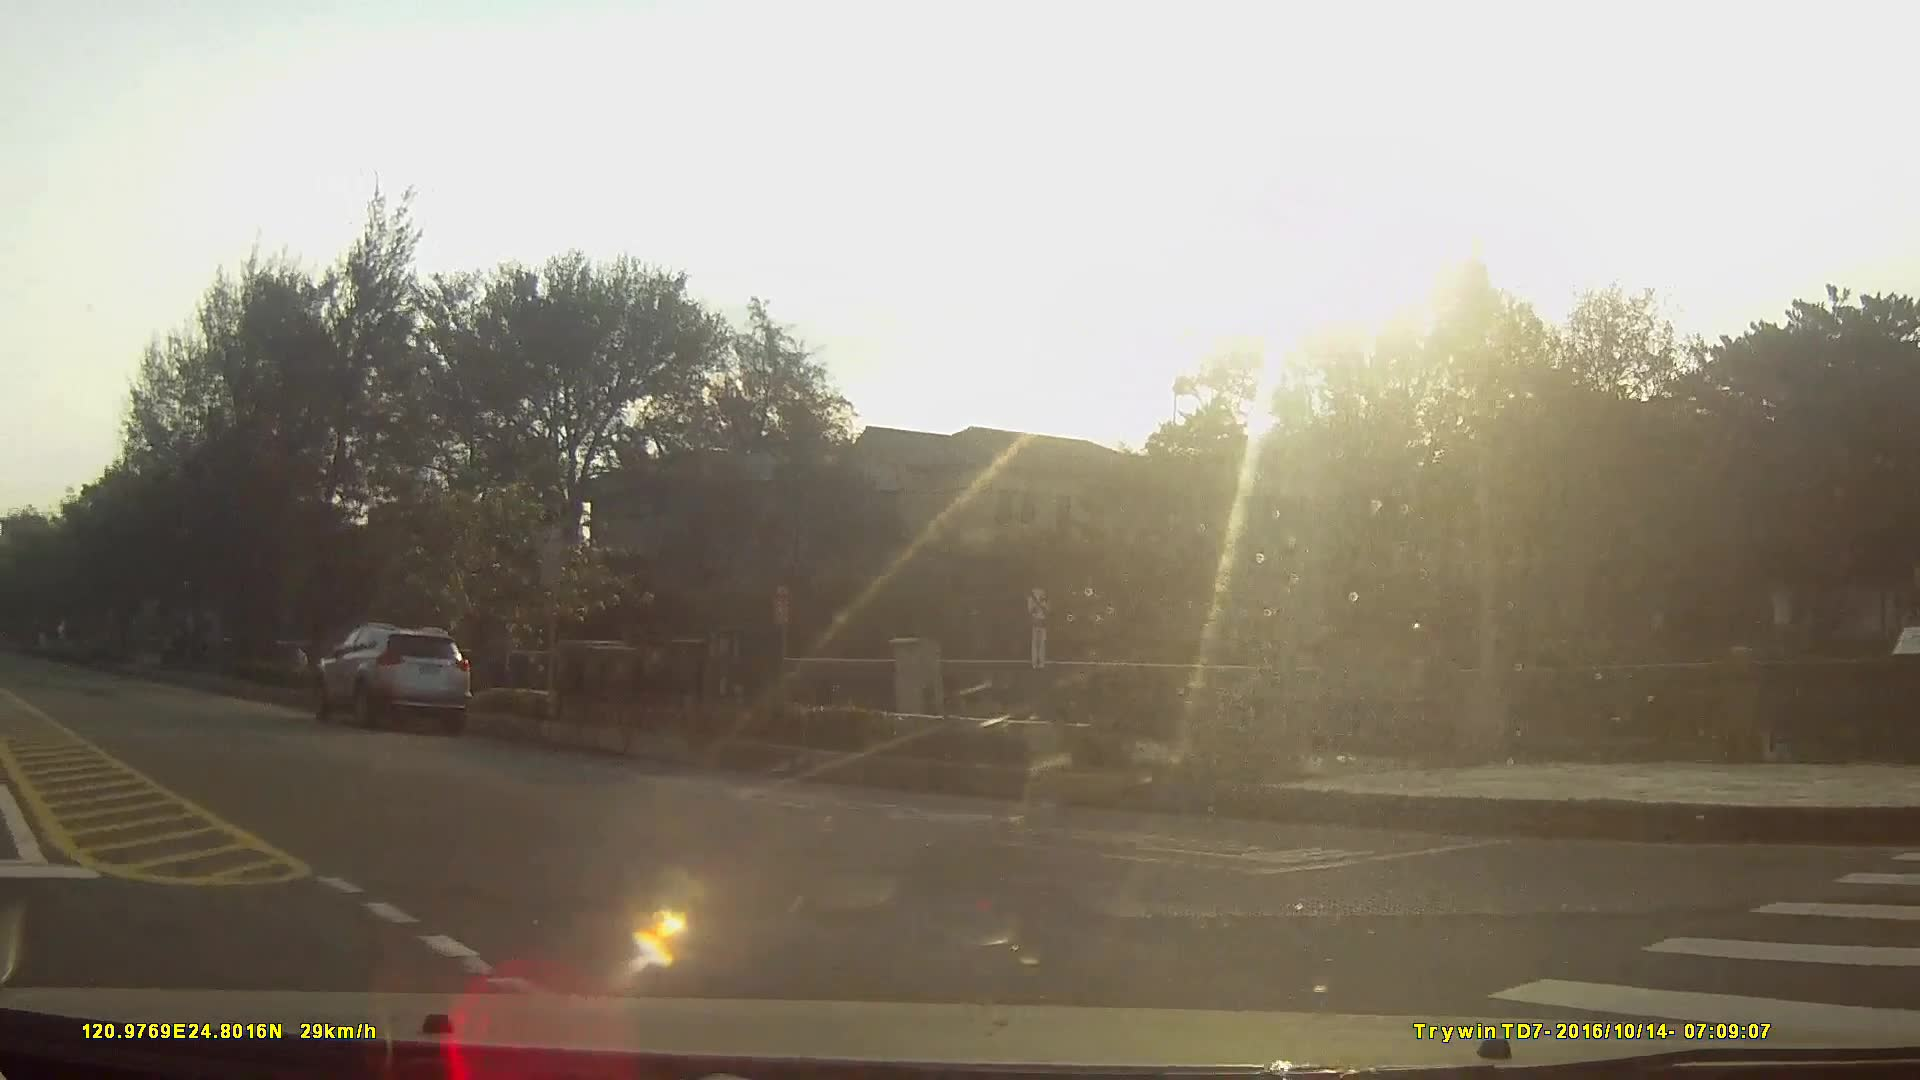vehicle: (311, 618, 468, 732)
